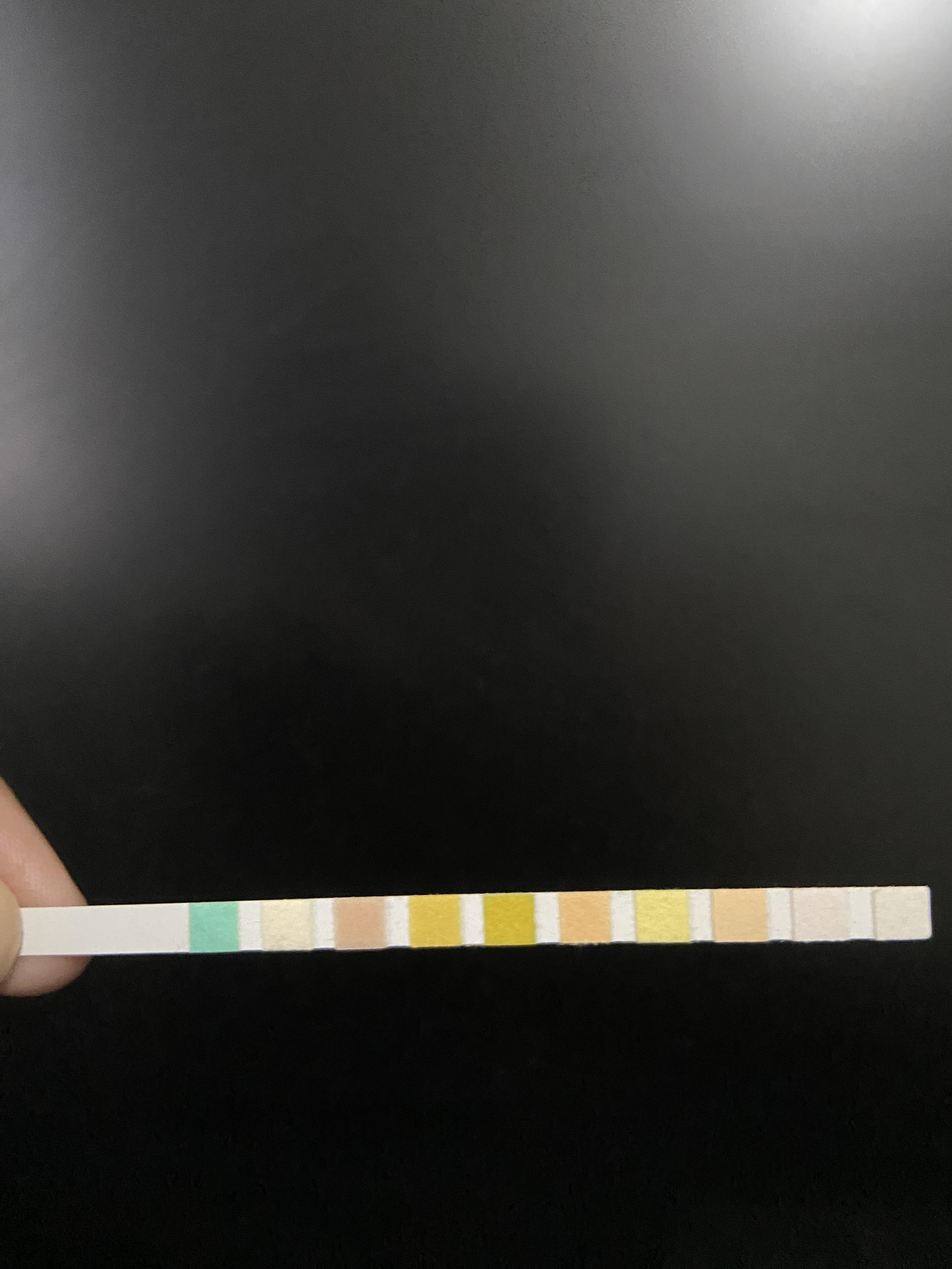Bilirubin: (263, 901, 313, 949)
Blood: (485, 896, 533, 944)
Glucose: (190, 905, 237, 950)
Ketone: (336, 899, 385, 949)
Leukocytes: (879, 890, 928, 938)
Nitrite: (796, 890, 846, 941)
Protein: (637, 893, 687, 941)
SpGravity: (409, 896, 460, 945)
Urobilinogen: (715, 890, 765, 941)
pH: (561, 893, 609, 941)
strip: (19, 886, 932, 955)
